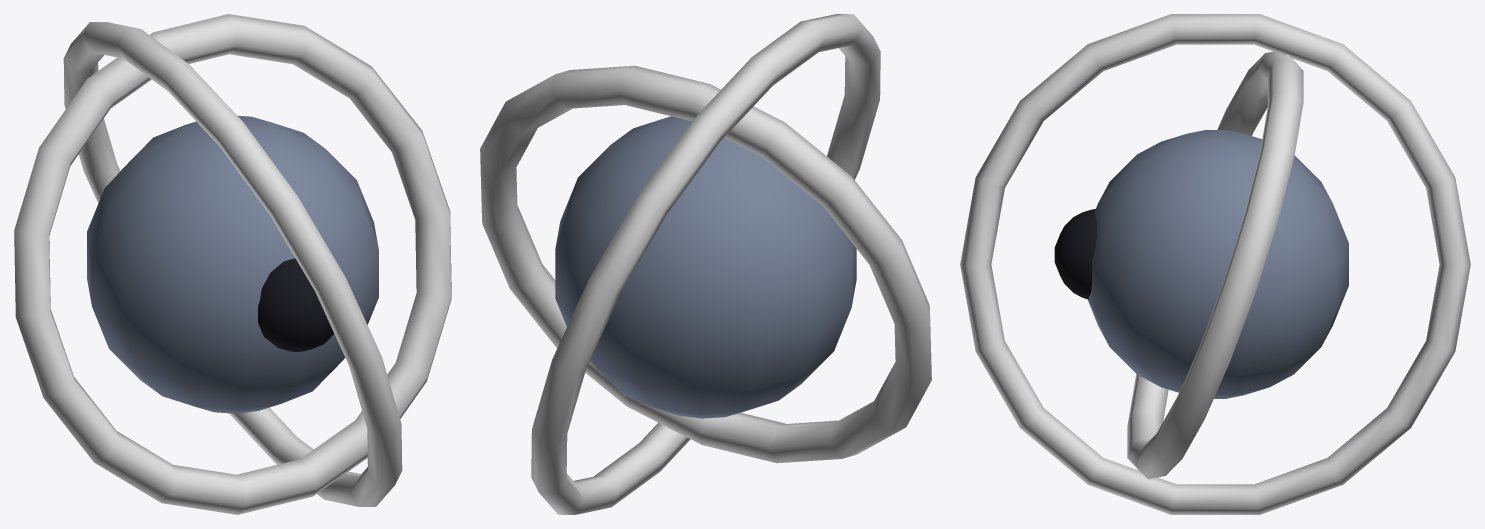
File: Enemy_orb.fbx
3 renders of one model, left to right at view 1: azimuth 30°, elevation 25°; view 2: azimuth 150°, elevation 25°; view 3: azimuth 270°, elevation 25°, orthographic. The views are drawn at different scales.
Parts seen in each view (by area): view 1: Enemy_orb; view 2: Enemy_orb; view 3: Enemy_orb.
Part boxes in pixels (bbox=[...]): Enemy_orb: bbox=[14, 14, 451, 514]; Enemy_orb: bbox=[480, 14, 931, 514]; Enemy_orb: bbox=[960, 14, 1470, 514].
Bounding box in the file's own units: 0.87 × 0.9069 × 0.98.
